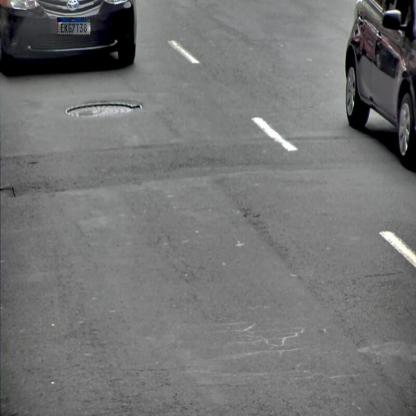PlacaM: (57, 18, 91, 36)
